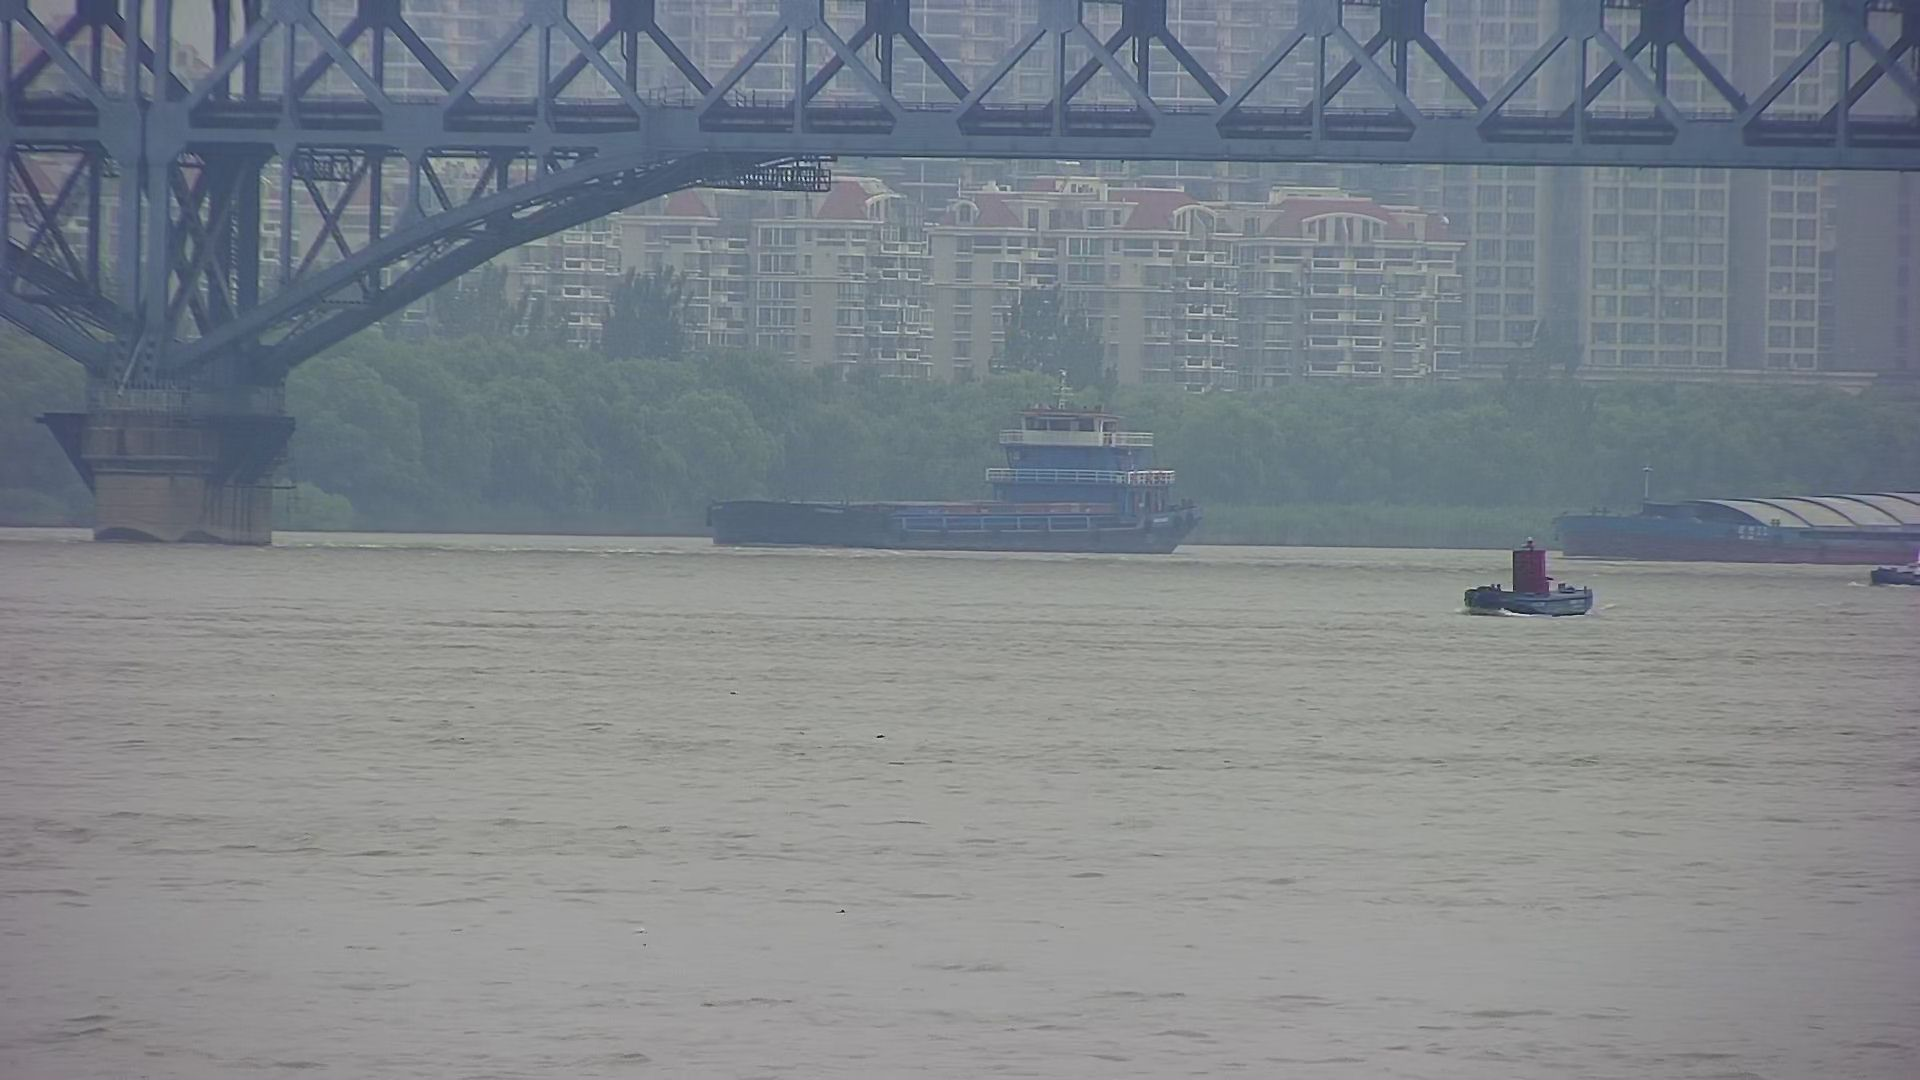boat: (1468, 542, 1596, 624)
bridge: (3, 3, 1913, 393)
ship: (700, 400, 1203, 563), (1552, 514, 1915, 567)
